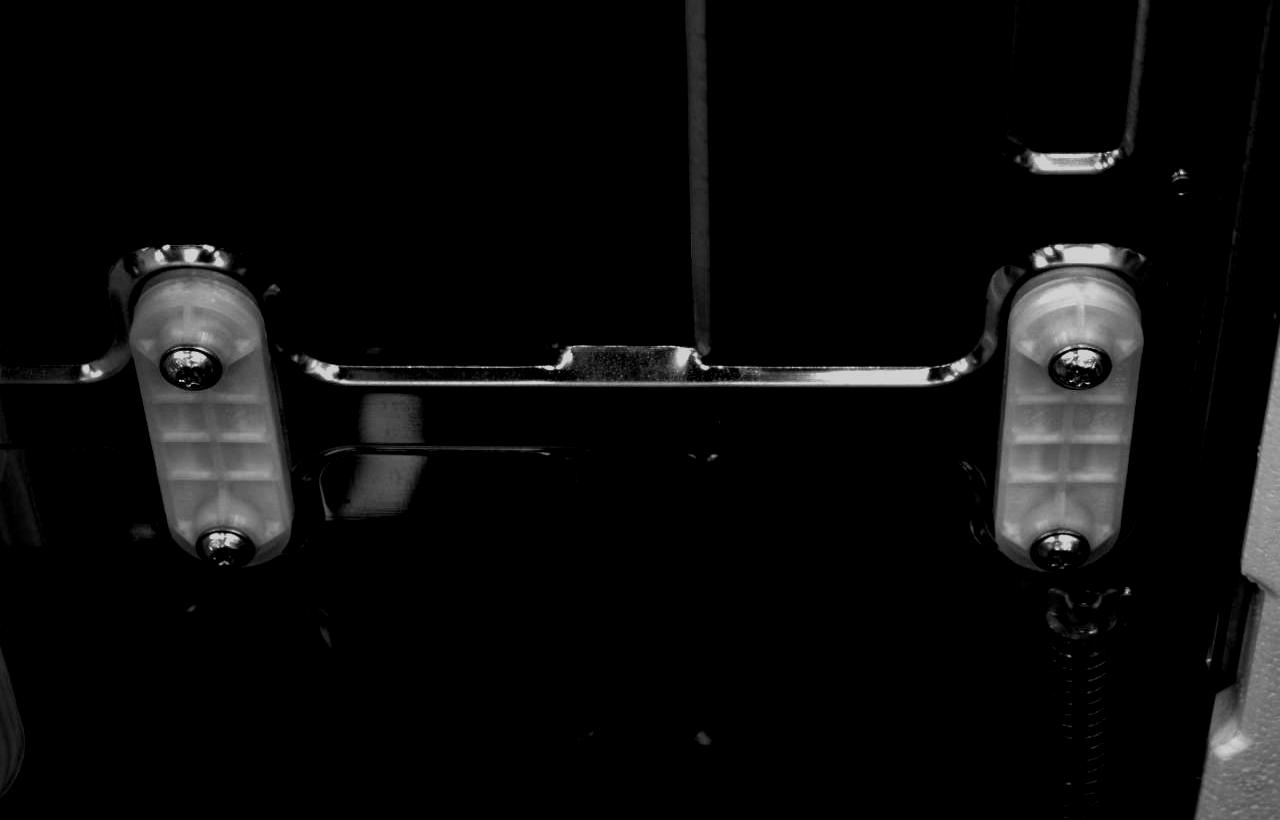vida-ok: (153, 338, 224, 405), (1043, 335, 1110, 402), (1029, 515, 1094, 574), (190, 517, 256, 575)
